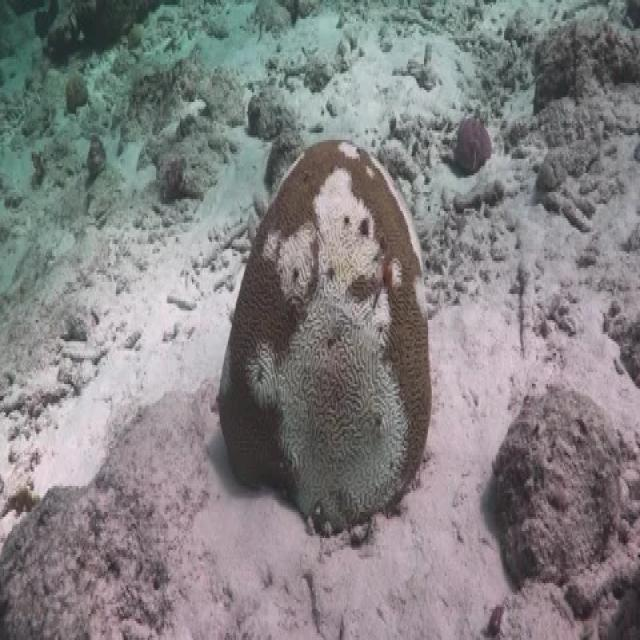Coral: (218, 139, 432, 534)
